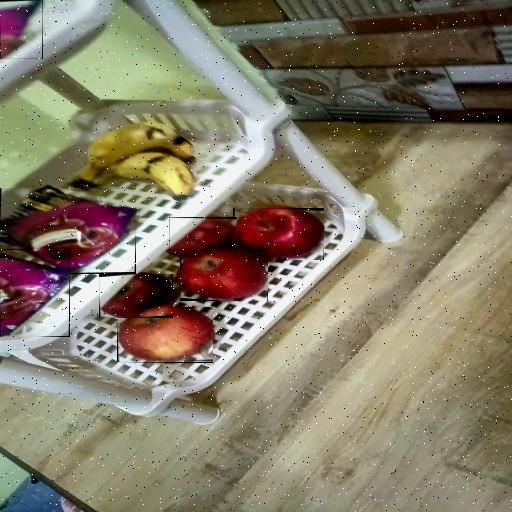Apple: (117, 308, 213, 364), (233, 208, 324, 260), (180, 249, 268, 301), (99, 274, 173, 318), (169, 217, 237, 258)
Choco Pie: (0, 188, 136, 274), (0, 249, 70, 337), (0, 0, 43, 59)
